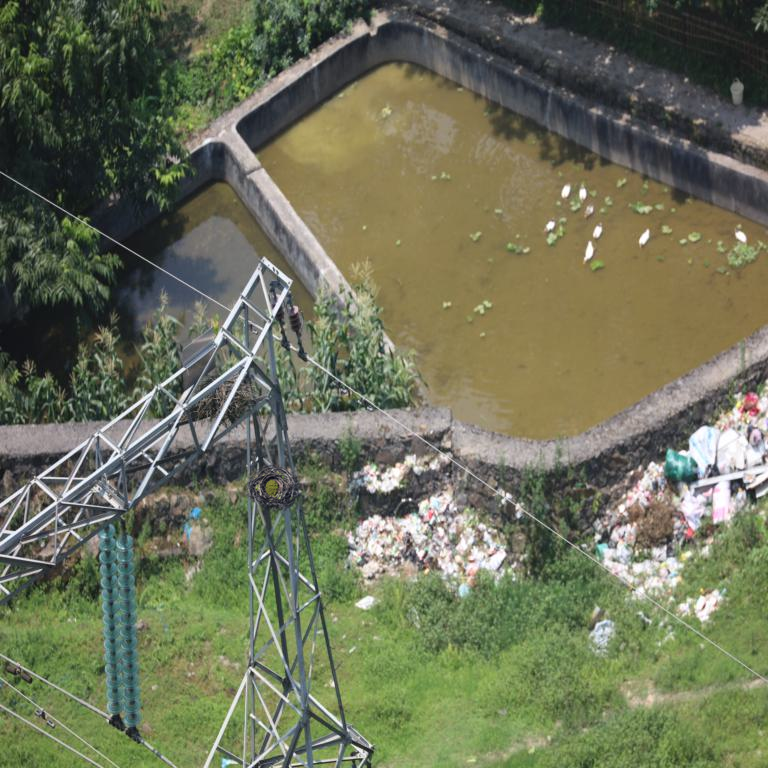nest: (192, 374, 257, 417), (251, 465, 296, 511)
